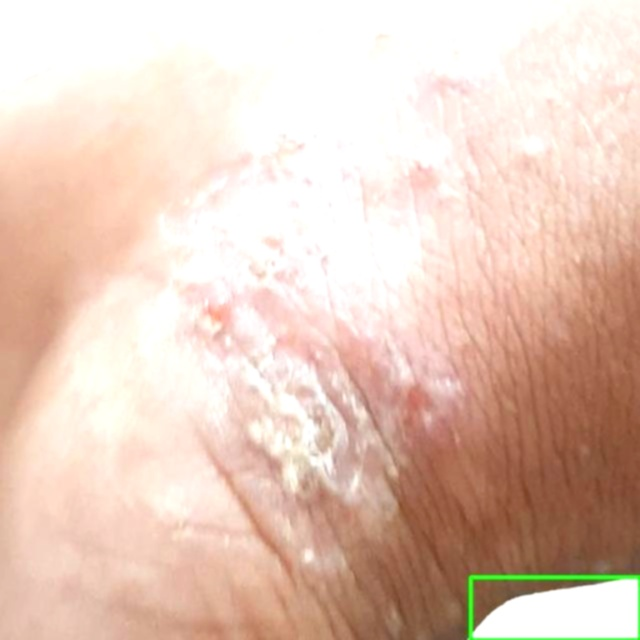Scabies: (470, 577, 639, 639)
